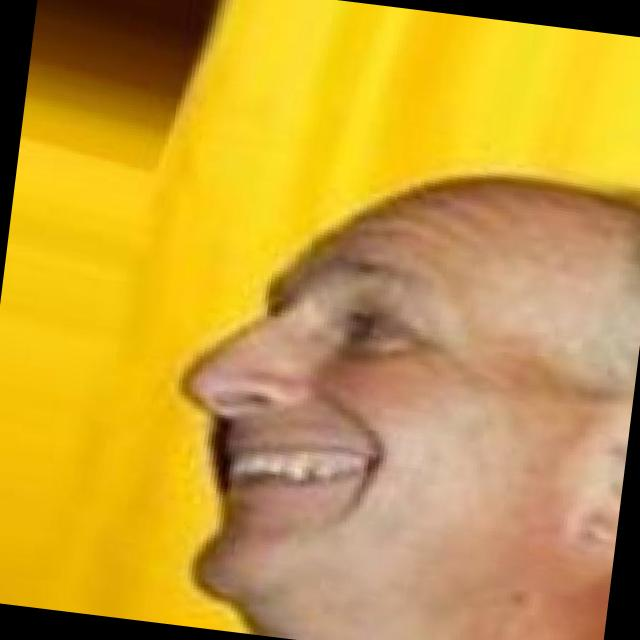bareface: (160, 143, 640, 640)
